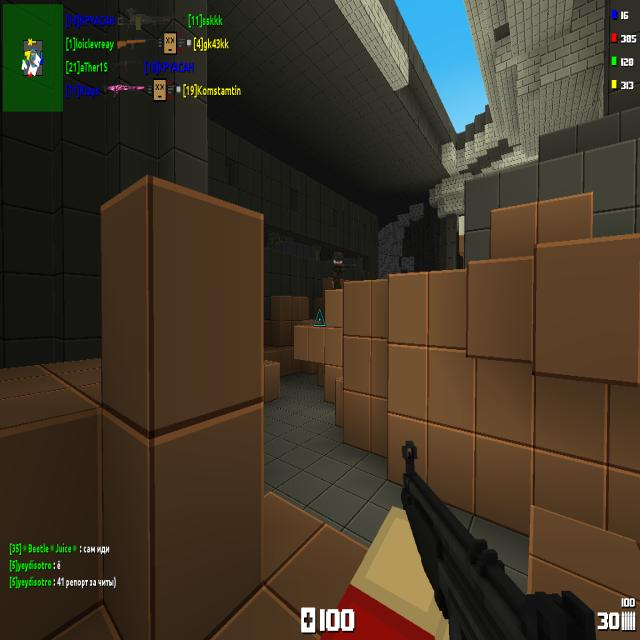enemy: (332, 248, 349, 290)
